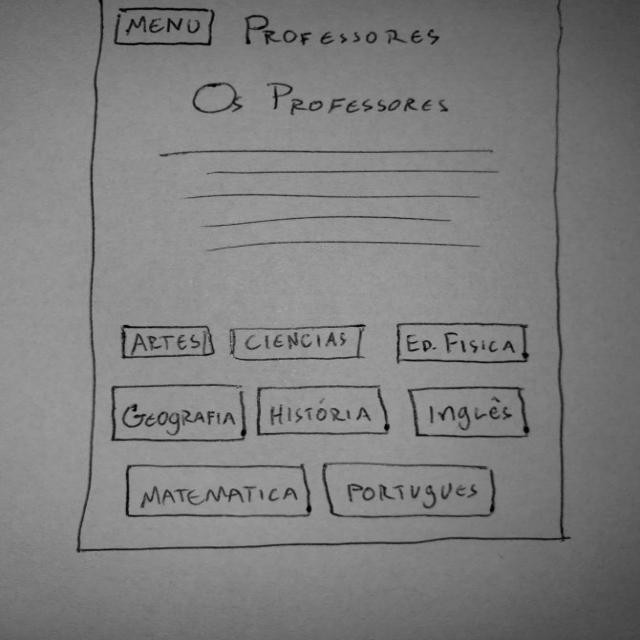button: (124, 464, 318, 520), (316, 461, 501, 519), (108, 384, 249, 444), (254, 386, 392, 438), (411, 386, 537, 441), (393, 323, 534, 367), (228, 322, 374, 364), (113, 6, 221, 52), (121, 324, 221, 362)
container: (75, 1, 573, 552)
label: (182, 83, 471, 123), (242, 14, 456, 54)
textbox: (157, 147, 507, 259)
